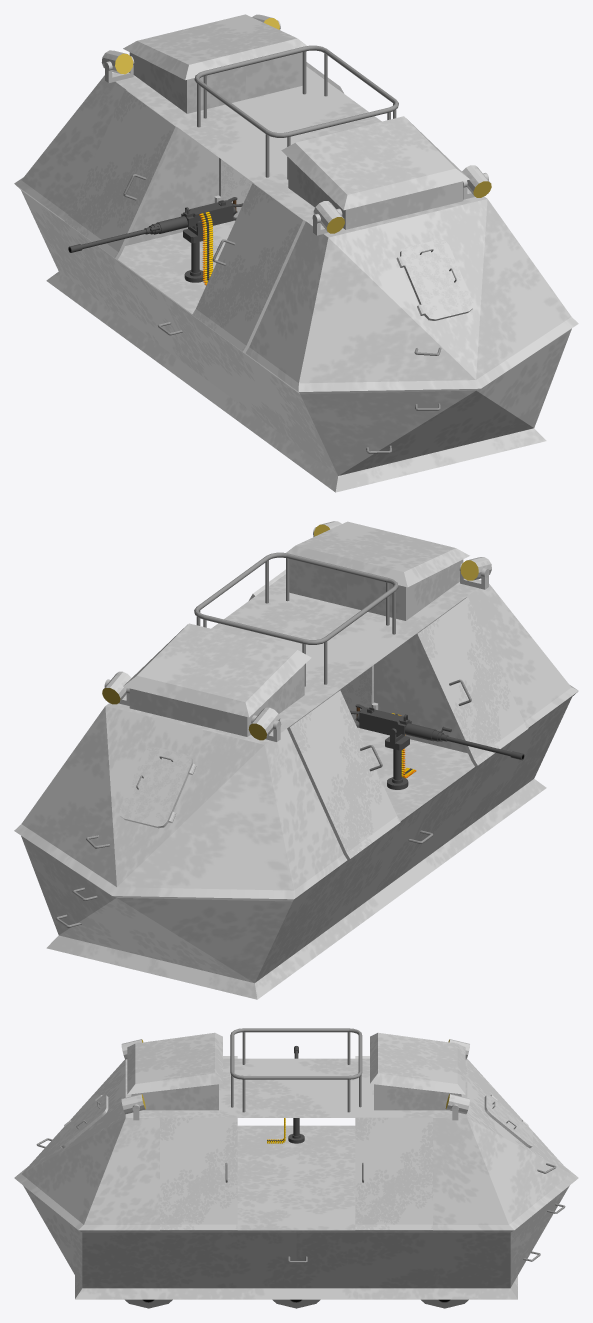
The model's file is White_Train.fbx.
3 renders of one model, top to bottom at view 1: azimuth 30°, elevation 25°; view 2: azimuth 150°, elevation 25°; view 3: azimuth 270°, elevation 25°, orthographic. The views are drawn at different scales.
Parts seen in each view (by area): view 1: polySurface118, transform93; view 2: polySurface118, transform93; view 3: polySurface118, transform93.
Boxes of the visible parts, left/top/right/bottom form: polySurface118: left=14, top=14, right=578, bottom=492; transform93: left=68, top=197, right=243, bottom=285; polySurface118: left=14, top=521, right=578, bottom=999; transform93: left=350, top=704, right=524, bottom=789; polySurface118: left=14, top=1028, right=578, bottom=1308; transform93: left=267, top=1046, right=304, bottom=1143.
Size of the model in its own units: 38.57 by 29.89 by 66.74.
Materials: 2 (2 with a texture image).
